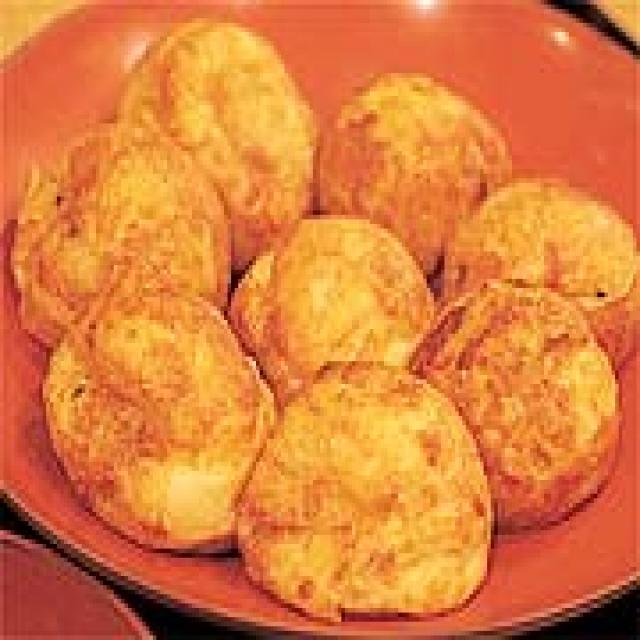炸货点心: (14, 5, 619, 608)
